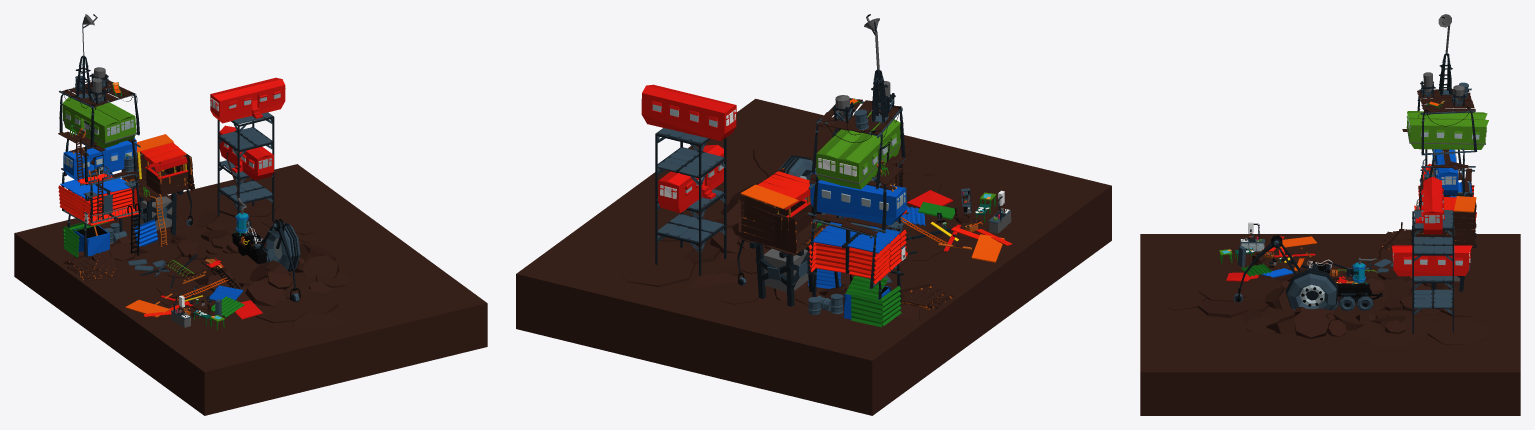
3 views of the same model, side by side, from view 1: azimuth 30°, elevation 25°; view 2: azimuth 150°, elevation 25°; view 3: azimuth 270°, elevation 25° (orthographic). The views are drawn at different scales.
Visible parts, largest first — view 1: group76844206, group1551427337, group1333070101, group1878359491, group1898191407, group1010540645, group1563616392, group147371195, group1825186942, group52452223, group1200159385, group841565969 (+8 smaller); view 2: group76844206, group1551427337, group1333070101, group1898191407, group1878359491, group1563616392, group52452223, group1519530755, group903424196, group1825186942, group165078457, group263589881 (+10 smaller); view 3: group76844206, group1333070101, group1010540645, group1551427337, group1519530755, group52452223, group417197514, group1898191407, group1200159385, group147371195, group841565969, group1527162662 (+11 smaller).
Part boxes in pixels (bbox=[...]): group76844206: bbox=[14, 164, 487, 415]; group1551427337: bbox=[210, 77, 285, 178]; group1333070101: bbox=[217, 125, 274, 221]; group1878359491: bbox=[62, 97, 120, 148]; group1898191407: bbox=[63, 137, 136, 181]; group1010540645: bbox=[231, 222, 300, 271]; group1563616392: bbox=[135, 190, 183, 235]; group147371195: bbox=[255, 300, 306, 323]; group1825186942: bbox=[73, 222, 110, 256]; group52452223: bbox=[219, 197, 278, 217]; group1200159385: bbox=[288, 291, 338, 314]; group841565969: bbox=[245, 281, 286, 306]; group76844206: bbox=[516, 98, 1111, 415]; group1551427337: bbox=[641, 84, 736, 211]; group1333070101: bbox=[655, 144, 726, 275]; group1898191407: bbox=[809, 172, 906, 225]; group1878359491: bbox=[837, 119, 900, 189]; group1563616392: bbox=[749, 242, 816, 306]; group52452223: bbox=[617, 252, 694, 286]; group1519530755: bbox=[816, 112, 871, 184]; group903424196: bbox=[851, 293, 883, 327]; group1825186942: bbox=[843, 275, 890, 319]; group165078457: bbox=[903, 232, 943, 260]; group263589881: bbox=[775, 214, 797, 253]; group76844206: bbox=[1140, 234, 1520, 415]; group1333070101: bbox=[1392, 245, 1472, 333]; group1010540645: bbox=[1285, 269, 1382, 310]; group1551427337: bbox=[1412, 177, 1454, 281]; group1519530755: bbox=[1408, 117, 1488, 149]; group52452223: bbox=[1427, 317, 1489, 345]; group417197514: bbox=[1293, 308, 1329, 338]; group1898191407: bbox=[1432, 149, 1458, 194]; group1200159385: bbox=[1198, 298, 1248, 317]; group147371195: bbox=[1199, 279, 1247, 301]; group841565969: bbox=[1240, 276, 1282, 301]; group1527162662: bbox=[1166, 289, 1206, 310].
Size of the model in its own units: 6.76 by 6.41 by 7.87.
